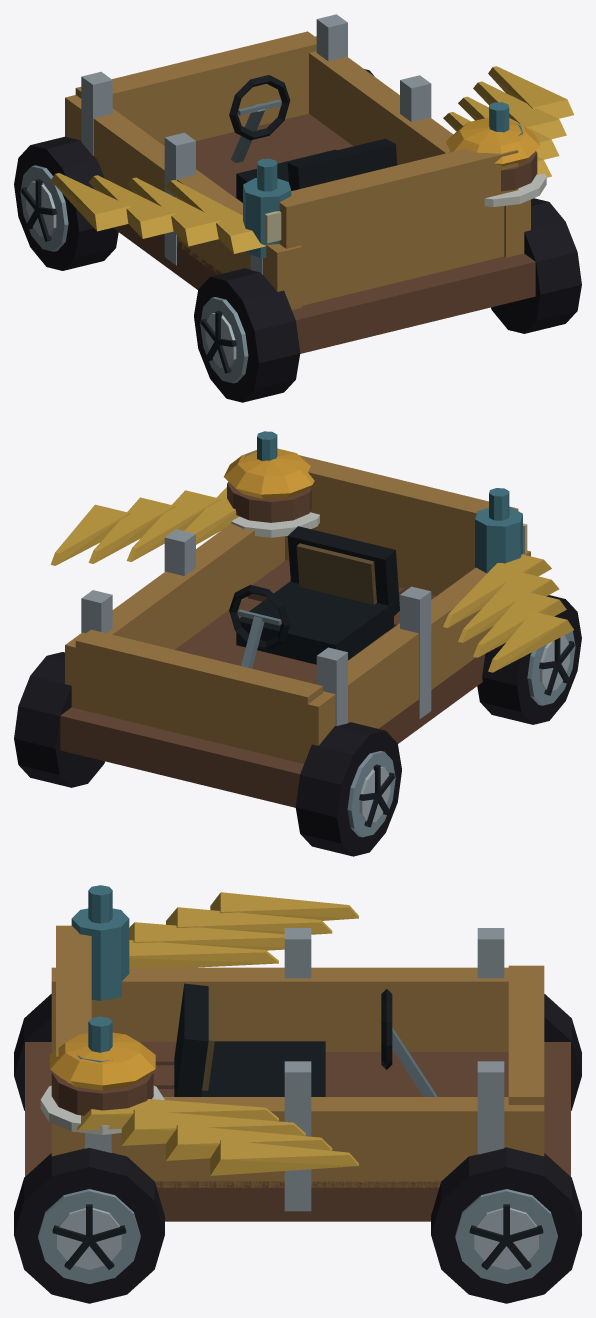
The model's file is kart.glb.
3 views of the same model, one above another, from view 1: azimuth 30°, elevation 25°; view 2: azimuth 150°, elevation 25°; view 3: azimuth 270°, elevation 25° (orthographic). The views are drawn at different scales.
Parts seen in each view (by area): view 1: identity-wagon-wagon-timber-coach, identity-wagon-motif-wings-feather, wheel-rear-left, wheel-front-left, wheel-rear-right, identity-wagon-driver-cockpit, identity-wagon-motif-food, identity-wagon-motif-bottles; view 2: identity-wagon-wagon-timber-coach, identity-wagon-driver-cockpit, identity-wagon-motif-wings-feather, wheel-front-left, wheel-rear-left, wheel-front-right, identity-wagon-motif-food, identity-wagon-motif-bottles; view 3: identity-wagon-wagon-timber-coach, identity-wagon-motif-wings-feather, wheel-front-right, wheel-rear-right, identity-wagon-driver-cockpit, identity-wagon-motif-food, identity-wagon-motif-bottles, wheel-front-left, wheel-rear-left.
Boxes of the visible parts, x1,y1,x2,y2 form: identity-wagon-wagon-timber-coach: [65, 14, 535, 353]; identity-wagon-motif-wings-feather: [50, 66, 573, 253]; wheel-rear-left: [194, 268, 300, 402]; wheel-front-left: [14, 136, 118, 270]; wheel-rear-right: [491, 198, 581, 333]; identity-wagon-driver-cockpit: [229, 75, 397, 202]; identity-wagon-motif-food: [446, 118, 546, 206]; identity-wagon-motif-bottles: [243, 102, 522, 257]; identity-wagon-wagon-timber-coach: [60, 455, 530, 807]; identity-wagon-driver-cockpit: [229, 526, 399, 668]; identity-wagon-motif-wings-feather: [50, 487, 573, 672]; wheel-front-left: [295, 722, 401, 856]; wheel-rear-left: [477, 595, 581, 724]; wheel-front-right: [14, 652, 104, 787]; identity-wagon-motif-food: [224, 448, 319, 537]; identity-wagon-motif-bottles: [244, 431, 527, 573]; identity-wagon-wagon-timber-coach: [25, 925, 570, 1221]; identity-wagon-motif-wings-feather: [77, 892, 358, 1175]; wheel-front-right: [431, 1147, 581, 1303]; wheel-rear-right: [14, 1148, 164, 1303]; identity-wagon-driver-cockpit: [174, 983, 437, 1096]; identity-wagon-motif-food: [40, 1032, 164, 1134]; identity-wagon-motif-bottles: [67, 885, 129, 1082]; wheel-front-left: [544, 994, 581, 1110]; wheel-rear-left: [14, 994, 51, 1110].
Bounding box in the file's own units: 2.88 × 1.27 × 2.56.
